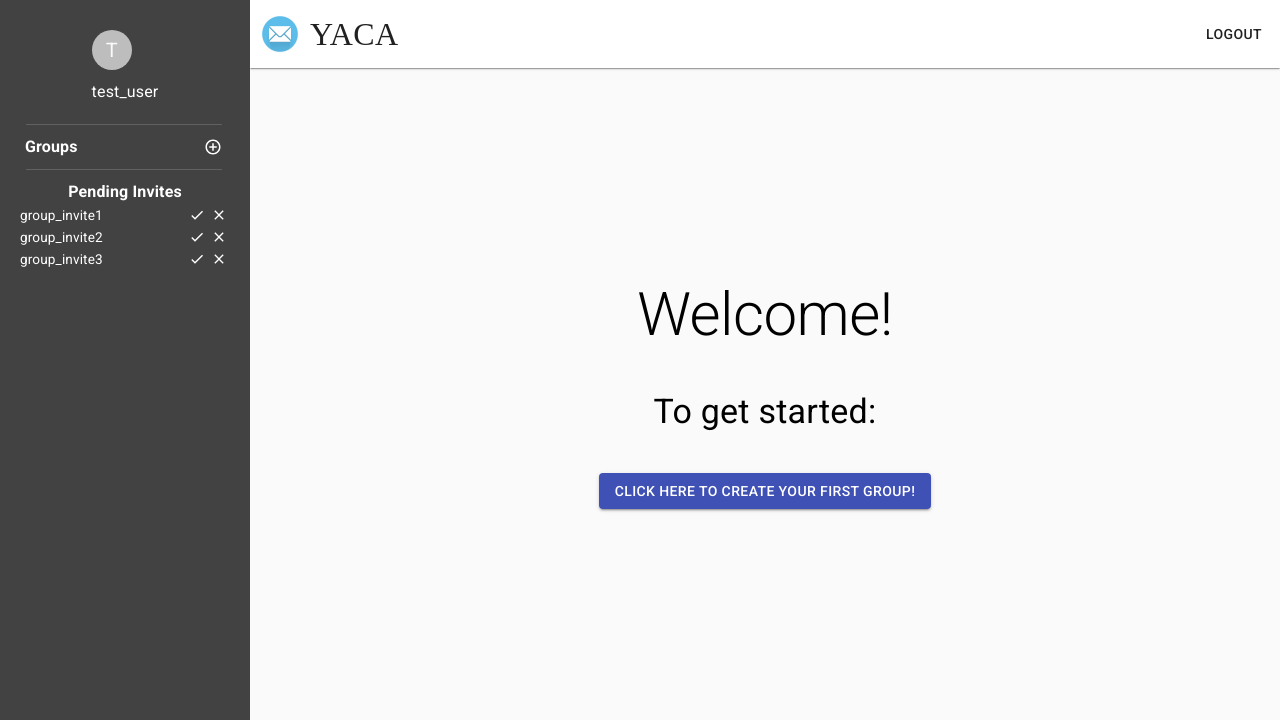
Scenario: <ChatPage/> when the screen size is large › should display welcome page and open new group form
Click the button with test id "welcome-newgroup-button": (765, 491) [599,473,931,509]
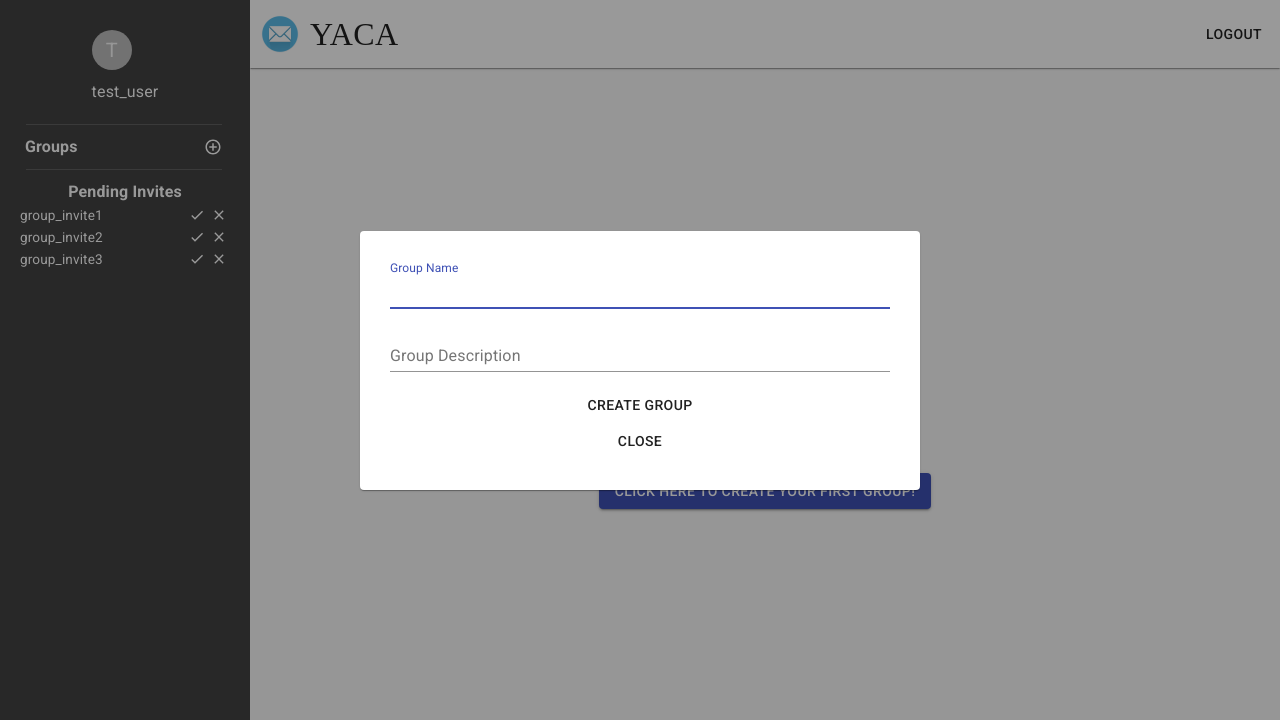
Now the form with test id "newgroupform" is shown, box [390,260,890,460]
